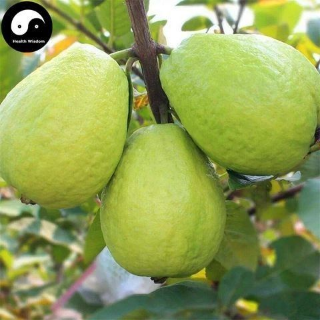oi: (162, 32, 318, 175), (2, 43, 127, 209), (100, 125, 222, 280)
